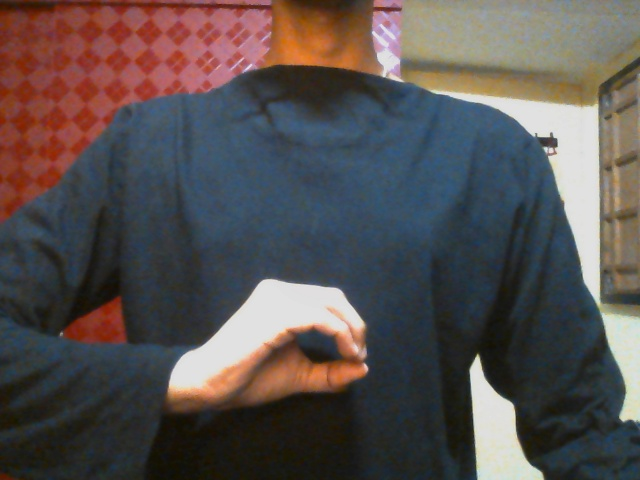O: (217, 278, 374, 410)
